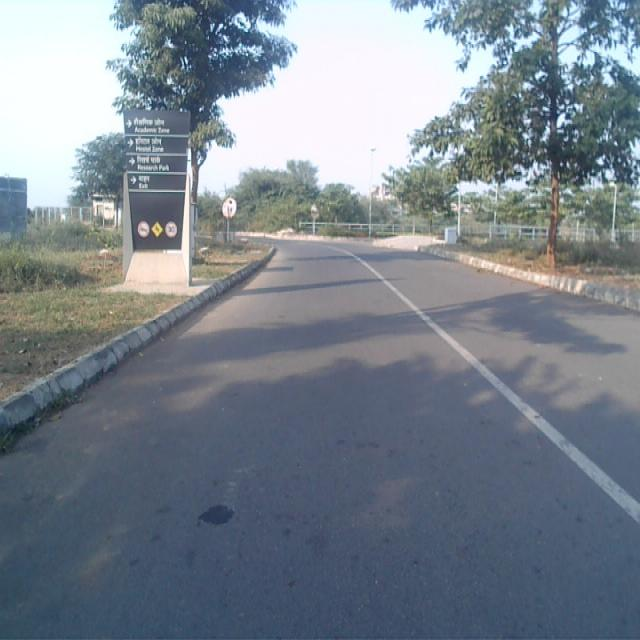lane: (0, 236, 640, 640)
